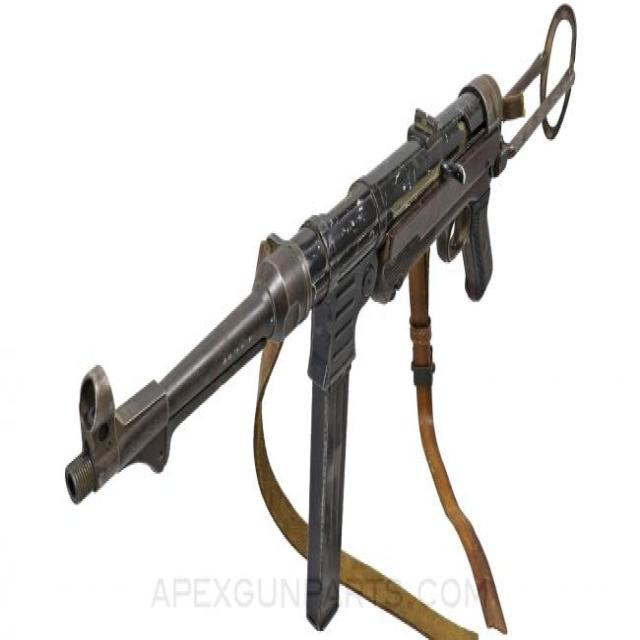SMG: (66, 4, 578, 631)
